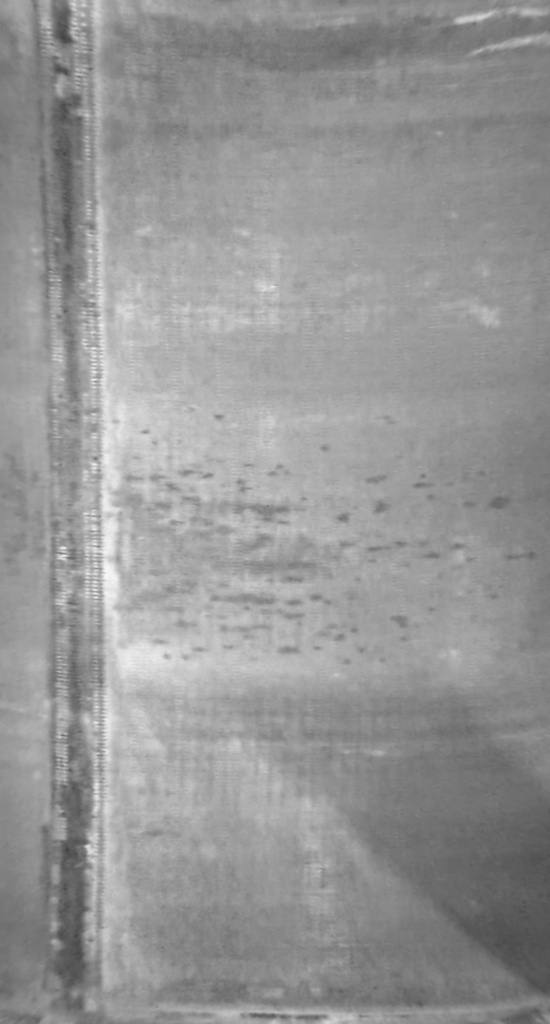splice: (18, 2, 115, 1024)
